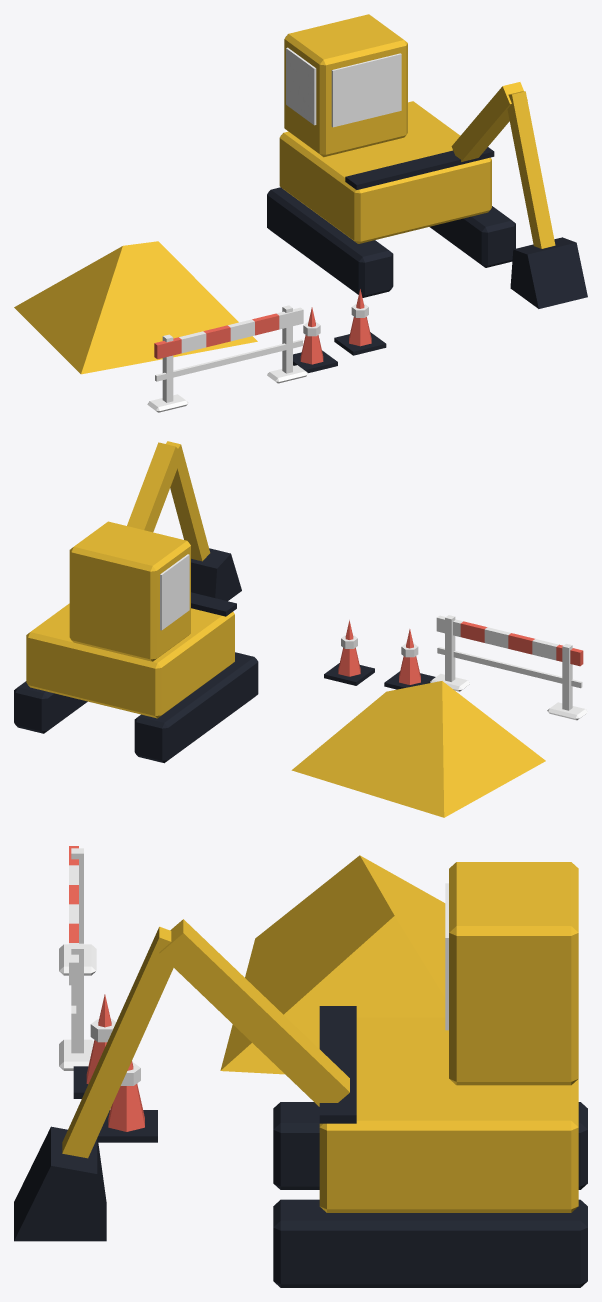
Rendered from construction-set.glb.
3 views of the same model, one above another, from view 1: azimuth 30°, elevation 25°; view 2: azimuth 150°, elevation 25°; view 3: azimuth 270°, elevation 25° (orthographic). The views are drawn at different scales.
Visible parts, largest first — view 1: construction-set; view 2: construction-set; view 3: construction-set.
Part boxes in pixels (box(x1,y1,x2,y2)): construction-set: box(14, 14, 587, 412); construction-set: box(14, 441, 587, 817); construction-set: box(14, 846, 587, 1287).
Bounding box in the file's own units: 7.66 × 3.42 × 5.27.
